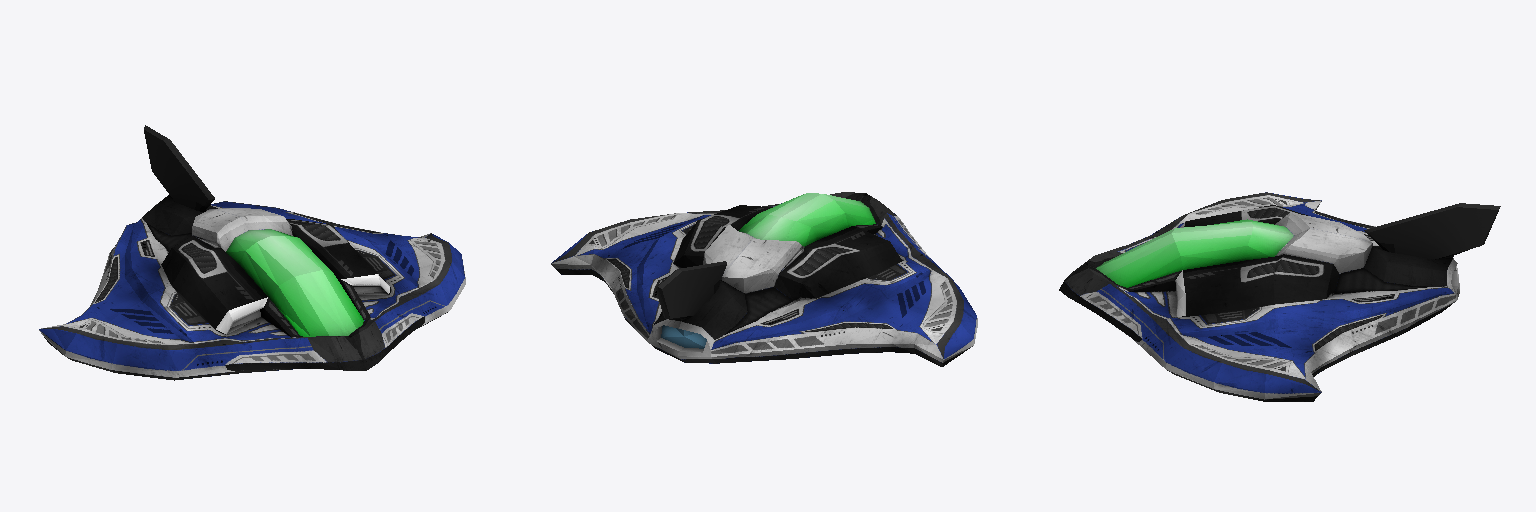
3 renders of one model, left to right at view 1: azimuth 30°, elevation 25°; view 2: azimuth 150°, elevation 25°; view 3: azimuth 270°, elevation 25°, orthographic.
Parts seen in each view (by area): view 1: Body, Glass; view 2: Body, Glass, Engine; view 3: Body, Glass.
Boxes of the visible parts, box(x1,y1,x2,y2) form: Body: box(39, 125, 465, 380); Glass: box(226, 229, 363, 336); Body: box(551, 192, 977, 366); Glass: box(739, 193, 875, 246); Engine: box(661, 325, 706, 348); Body: box(1059, 192, 1500, 401); Glass: box(1096, 219, 1293, 287).
Bounding box in the file's own units: 2.04 × 0.52 × 1.97.
Materials: 5 (1 with a texture image).